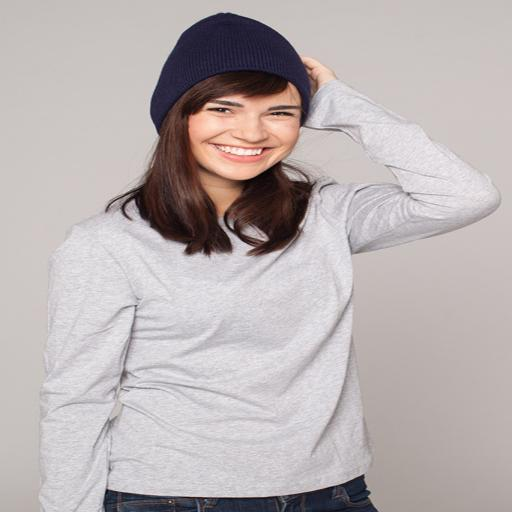Person: (104, 19, 414, 509)
no_goggle: (216, 98, 294, 128)
no_helmet: (191, 16, 289, 97)
none: (140, 212, 326, 468)
